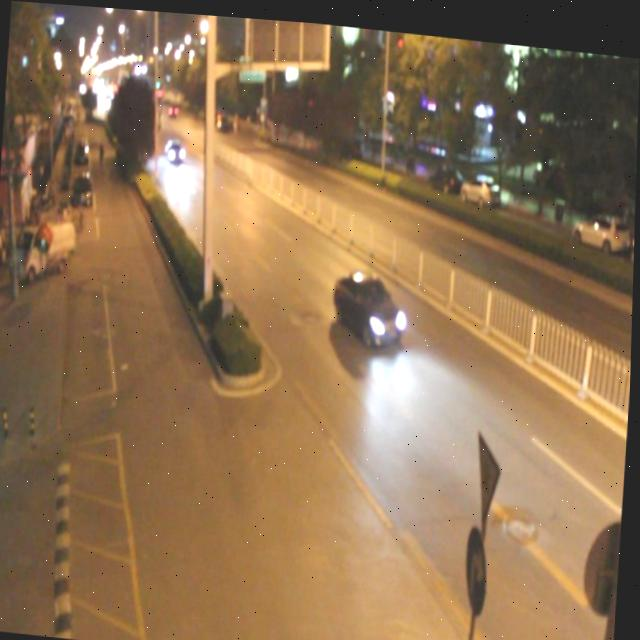car: (331, 265, 406, 343), (164, 134, 187, 161)
